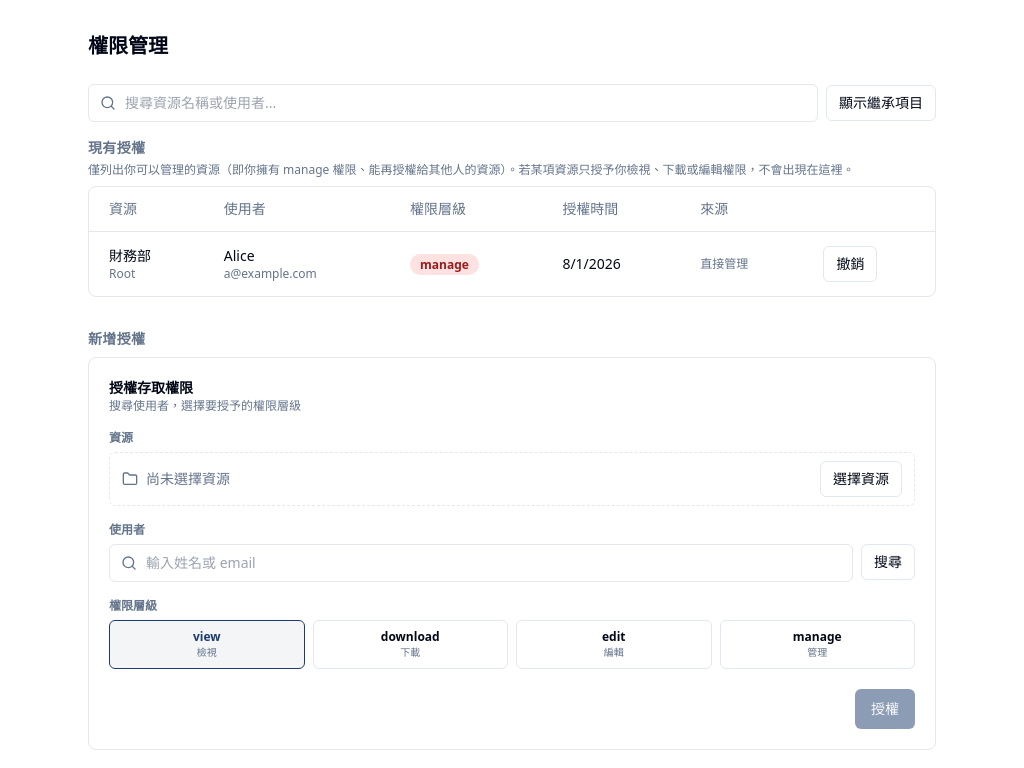
Scenario: PermissionsDashboard › shows a friendly error message and does not silently swallow a failed revoke
Expected: the text "財務部" is shown, [109,246,151,265]
Click the button with test id "revoke-p1" at (850, 264), box [823,246,877,282]
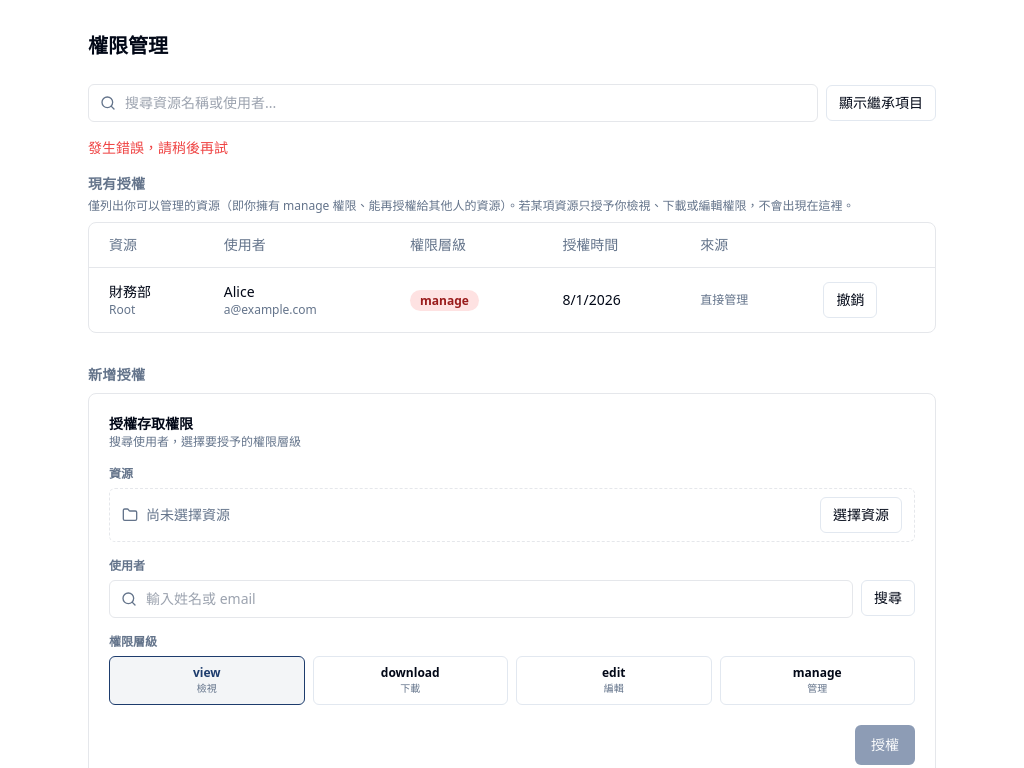
Now the text "發生錯誤，請稍後再試" is shown, box [88,138,228,157]
